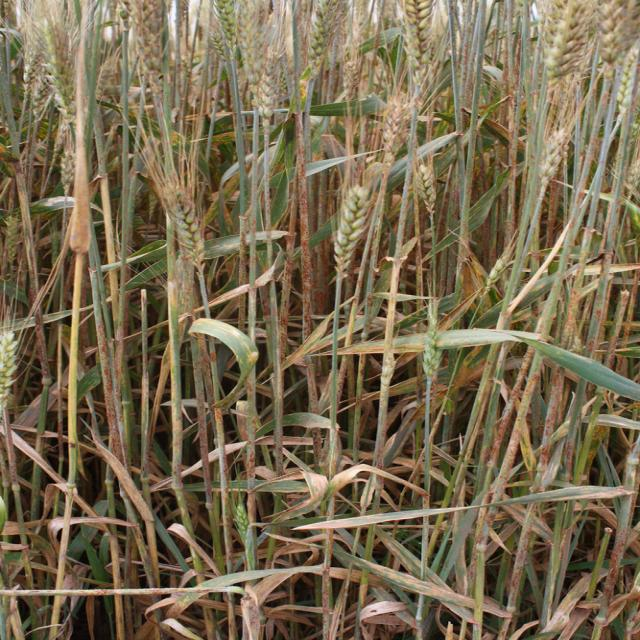wheat-stemrust: (194, 336, 231, 574), (494, 374, 540, 500), (93, 301, 127, 467), (355, 175, 386, 303), (296, 114, 312, 341), (278, 179, 298, 360), (507, 504, 533, 616), (17, 185, 39, 309), (486, 381, 519, 463), (393, 144, 415, 260), (537, 368, 561, 470), (603, 293, 629, 369), (0, 588, 229, 596), (243, 381, 258, 478), (564, 266, 583, 339), (36, 306, 52, 387), (545, 372, 561, 436), (322, 568, 333, 640), (240, 232, 249, 286), (520, 347, 535, 379), (238, 293, 249, 332), (497, 619, 511, 640)
